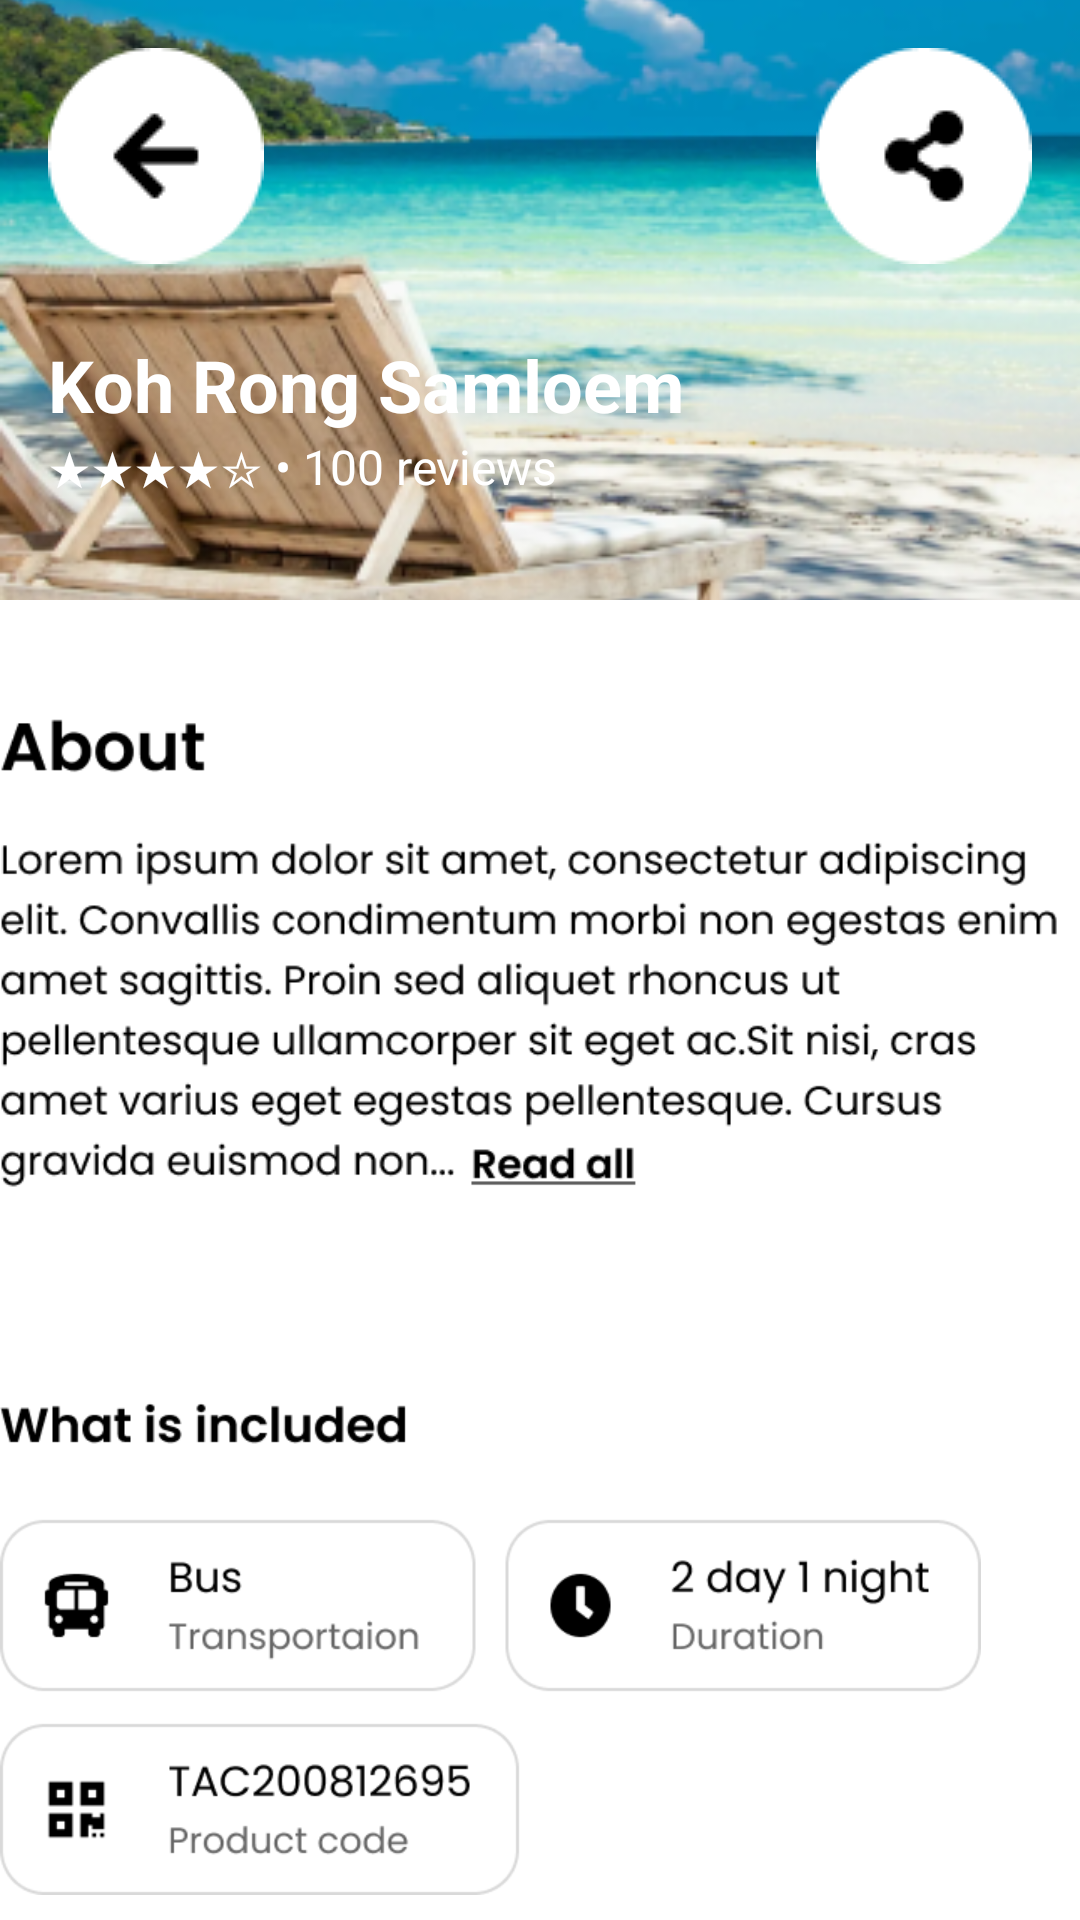

Icons on this 1080w x 1920h Android screen, each with the point to tap as point (x, y):
back: point (156, 156)
share: point (924, 156)
